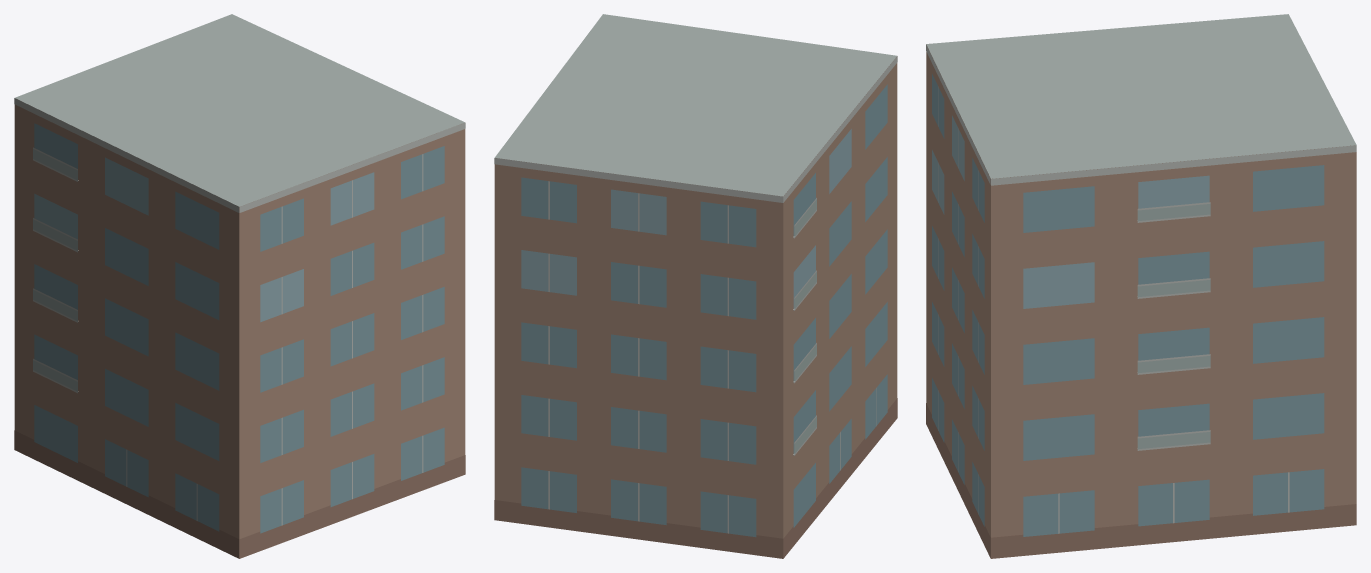
Rendered from survey-upis-32876911.glb.
3 renders of one model, left to right at view 1: azimuth 30°, elevation 25°; view 2: azimuth 150°, elevation 25°; view 3: azimuth 270°, elevation 25°, orthographic. The views are drawn at different scales.
Visible parts, largest first — view 1: survey-upis-32876911.tmp; view 2: survey-upis-32876911.tmp; view 3: survey-upis-32876911.tmp.
Part boxes in pixels (<box>): survey-upis-32876911.tmp: <box>14,14,465,558</box>; survey-upis-32876911.tmp: <box>494,14,897,558</box>; survey-upis-32876911.tmp: <box>926,14,1356,558</box>.
Bounding box in the file's own units: 12.57 × 13.5 × 13.87.
